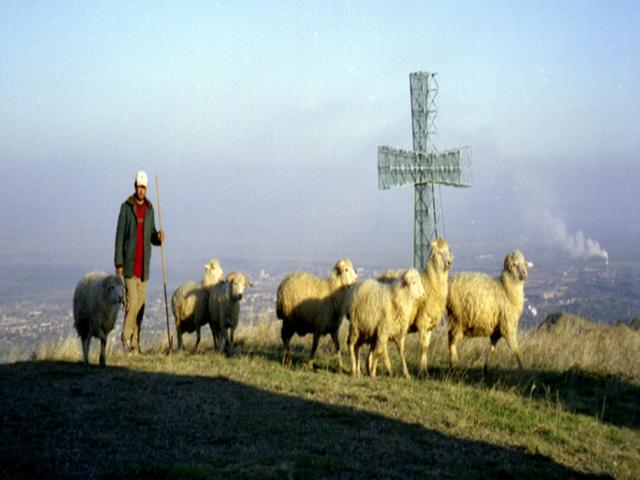sheep: (452, 240, 552, 356), (59, 263, 133, 356)
